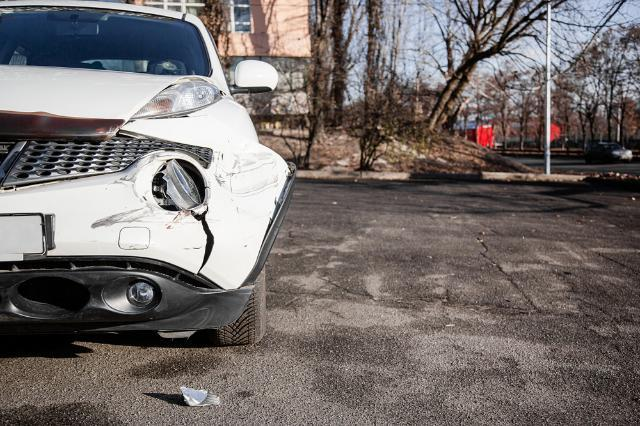crack: (190, 204, 215, 274)
lamp broken: (152, 160, 203, 212)
scratch: (93, 154, 189, 230), (212, 148, 278, 202)
